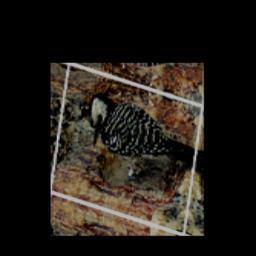Woodpecker: (76, 84, 201, 207)
